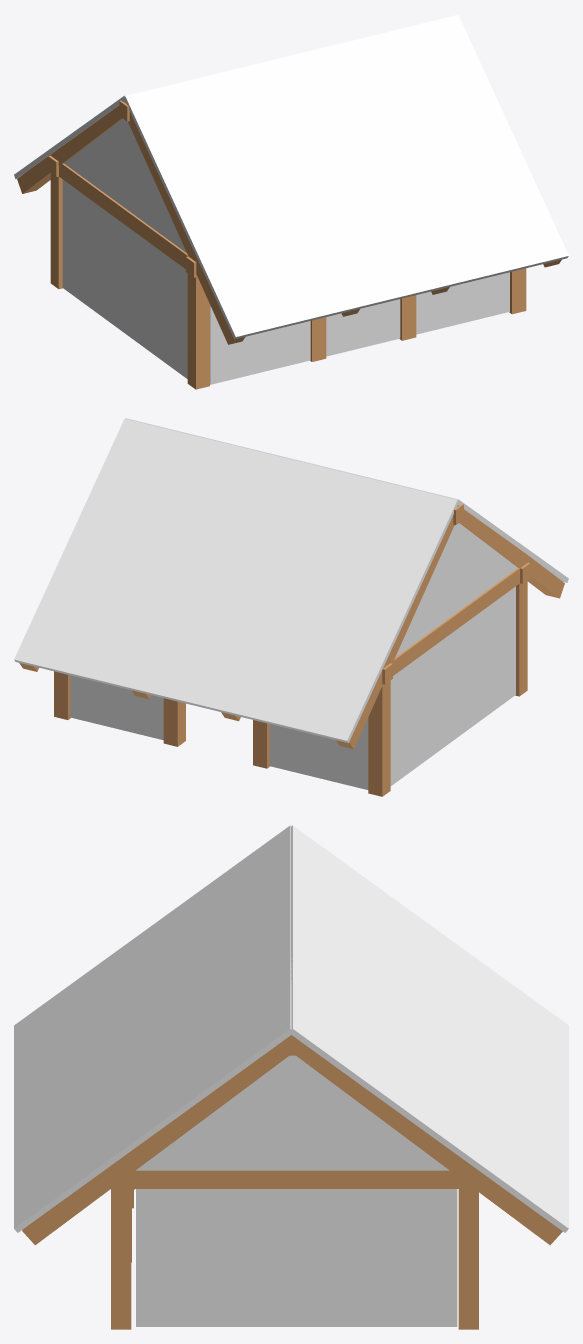
File: chaumiereEnTerre.glb
3 renders of one model, top to bottom at view 1: azimuth 30°, elevation 25°; view 2: azimuth 150°, elevation 25°; view 3: azimuth 270°, elevation 25°, orthographic. The views are drawn at different scales.
Visible parts, largest first — view 1: Cube.001; view 2: Cube.001; view 3: Cube.001.
Boxes of the visible parts, x1,y1,x2,y2 form: Cube.001: [14, 14, 568, 389]; Cube.001: [14, 418, 568, 796]; Cube.001: [14, 825, 568, 1329].
Bounding box in the file's own units: 17.09 × 11.83 × 19.61.
